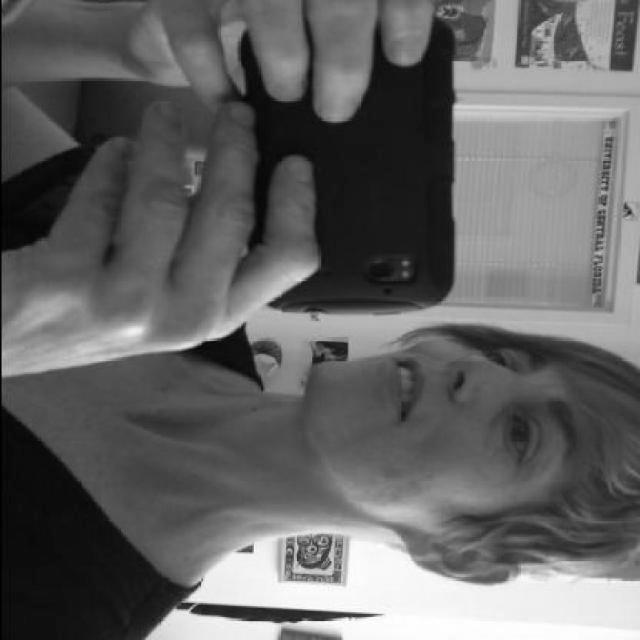fake: (210, 14, 468, 322)
